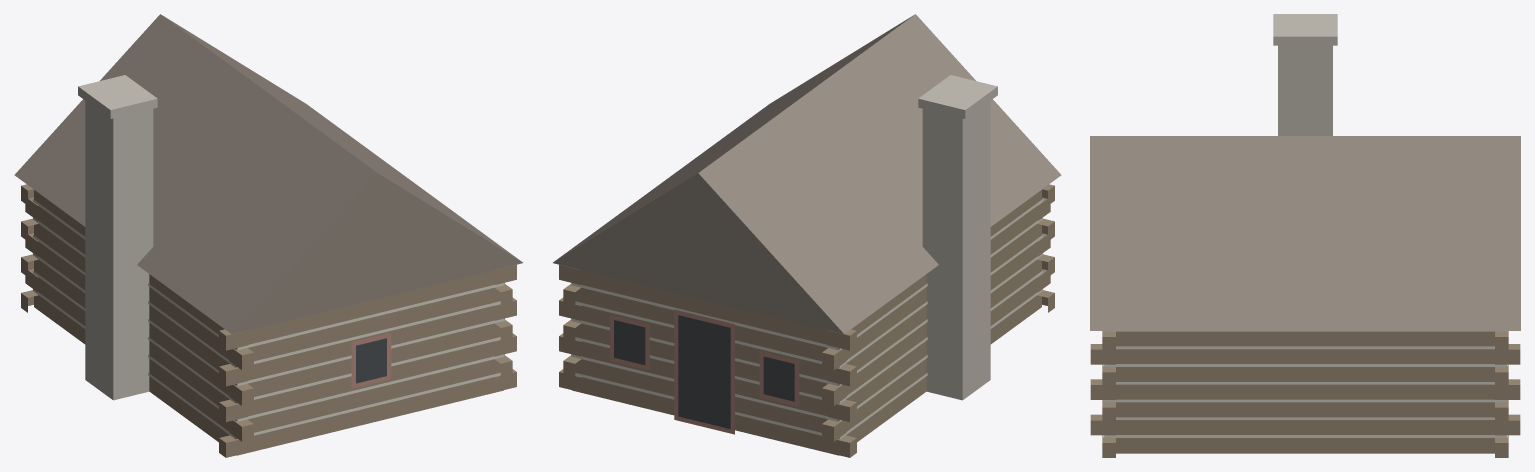
File: recon_1835_north_d1_001__inferred_1835.glb
The picture shows the model from 3 angles, left to right: view 1: azimuth 30°, elevation 25°; view 2: azimuth 150°, elevation 25°; view 3: azimuth 270°, elevation 25°; orthographic projection.
Visible parts, largest first — view 1: recon_1835_north_d1_001__inferred_1835; view 2: recon_1835_north_d1_001__inferred_1835; view 3: recon_1835_north_d1_001__inferred_1835.
Boxes of the visible parts, bbox=[...] form: recon_1835_north_d1_001__inferred_1835: bbox=[14, 14, 522, 457]; recon_1835_north_d1_001__inferred_1835: bbox=[553, 14, 1061, 457]; recon_1835_north_d1_001__inferred_1835: bbox=[1090, 14, 1520, 457].
Bounding box in the file's own units: 6.39 × 5.64 × 7.5.
